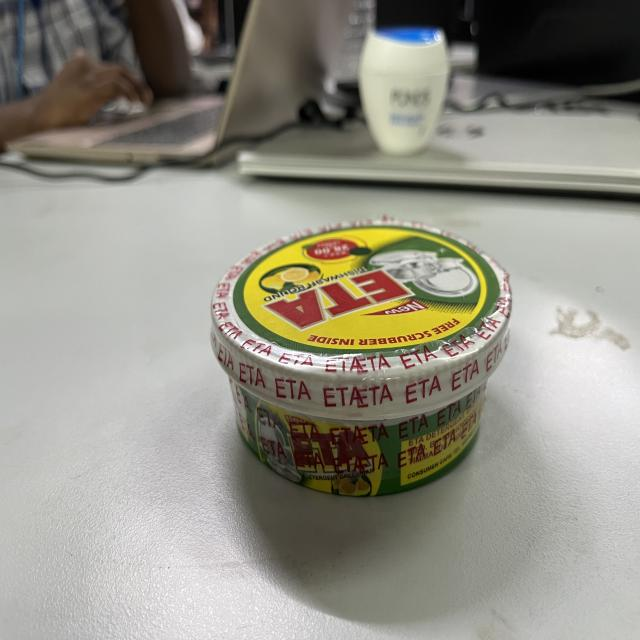L2: (196, 217, 518, 497)
